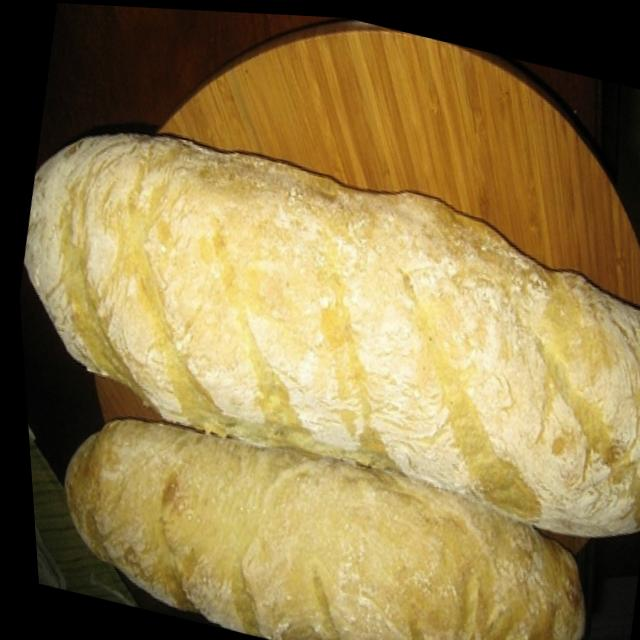面包点心: (3, 53, 640, 640)
